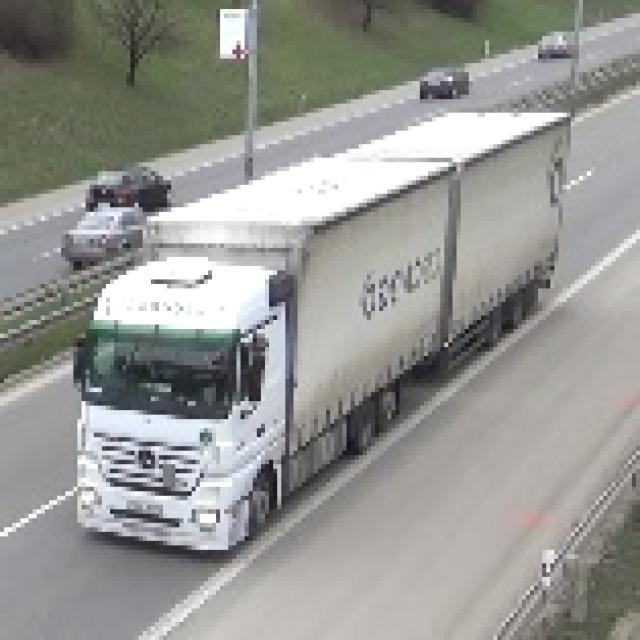SED: (64, 206, 174, 270), (90, 170, 176, 216), (423, 68, 471, 98)
TRUCK: (64, 107, 559, 550)
